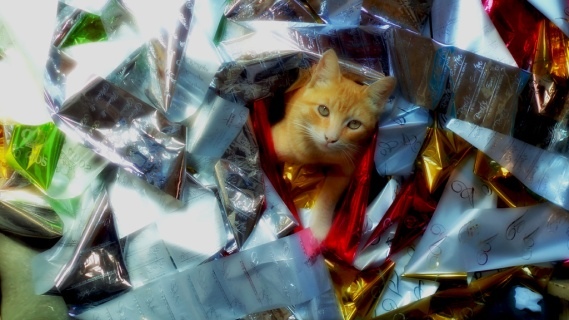Cat: (264, 50, 395, 240)
